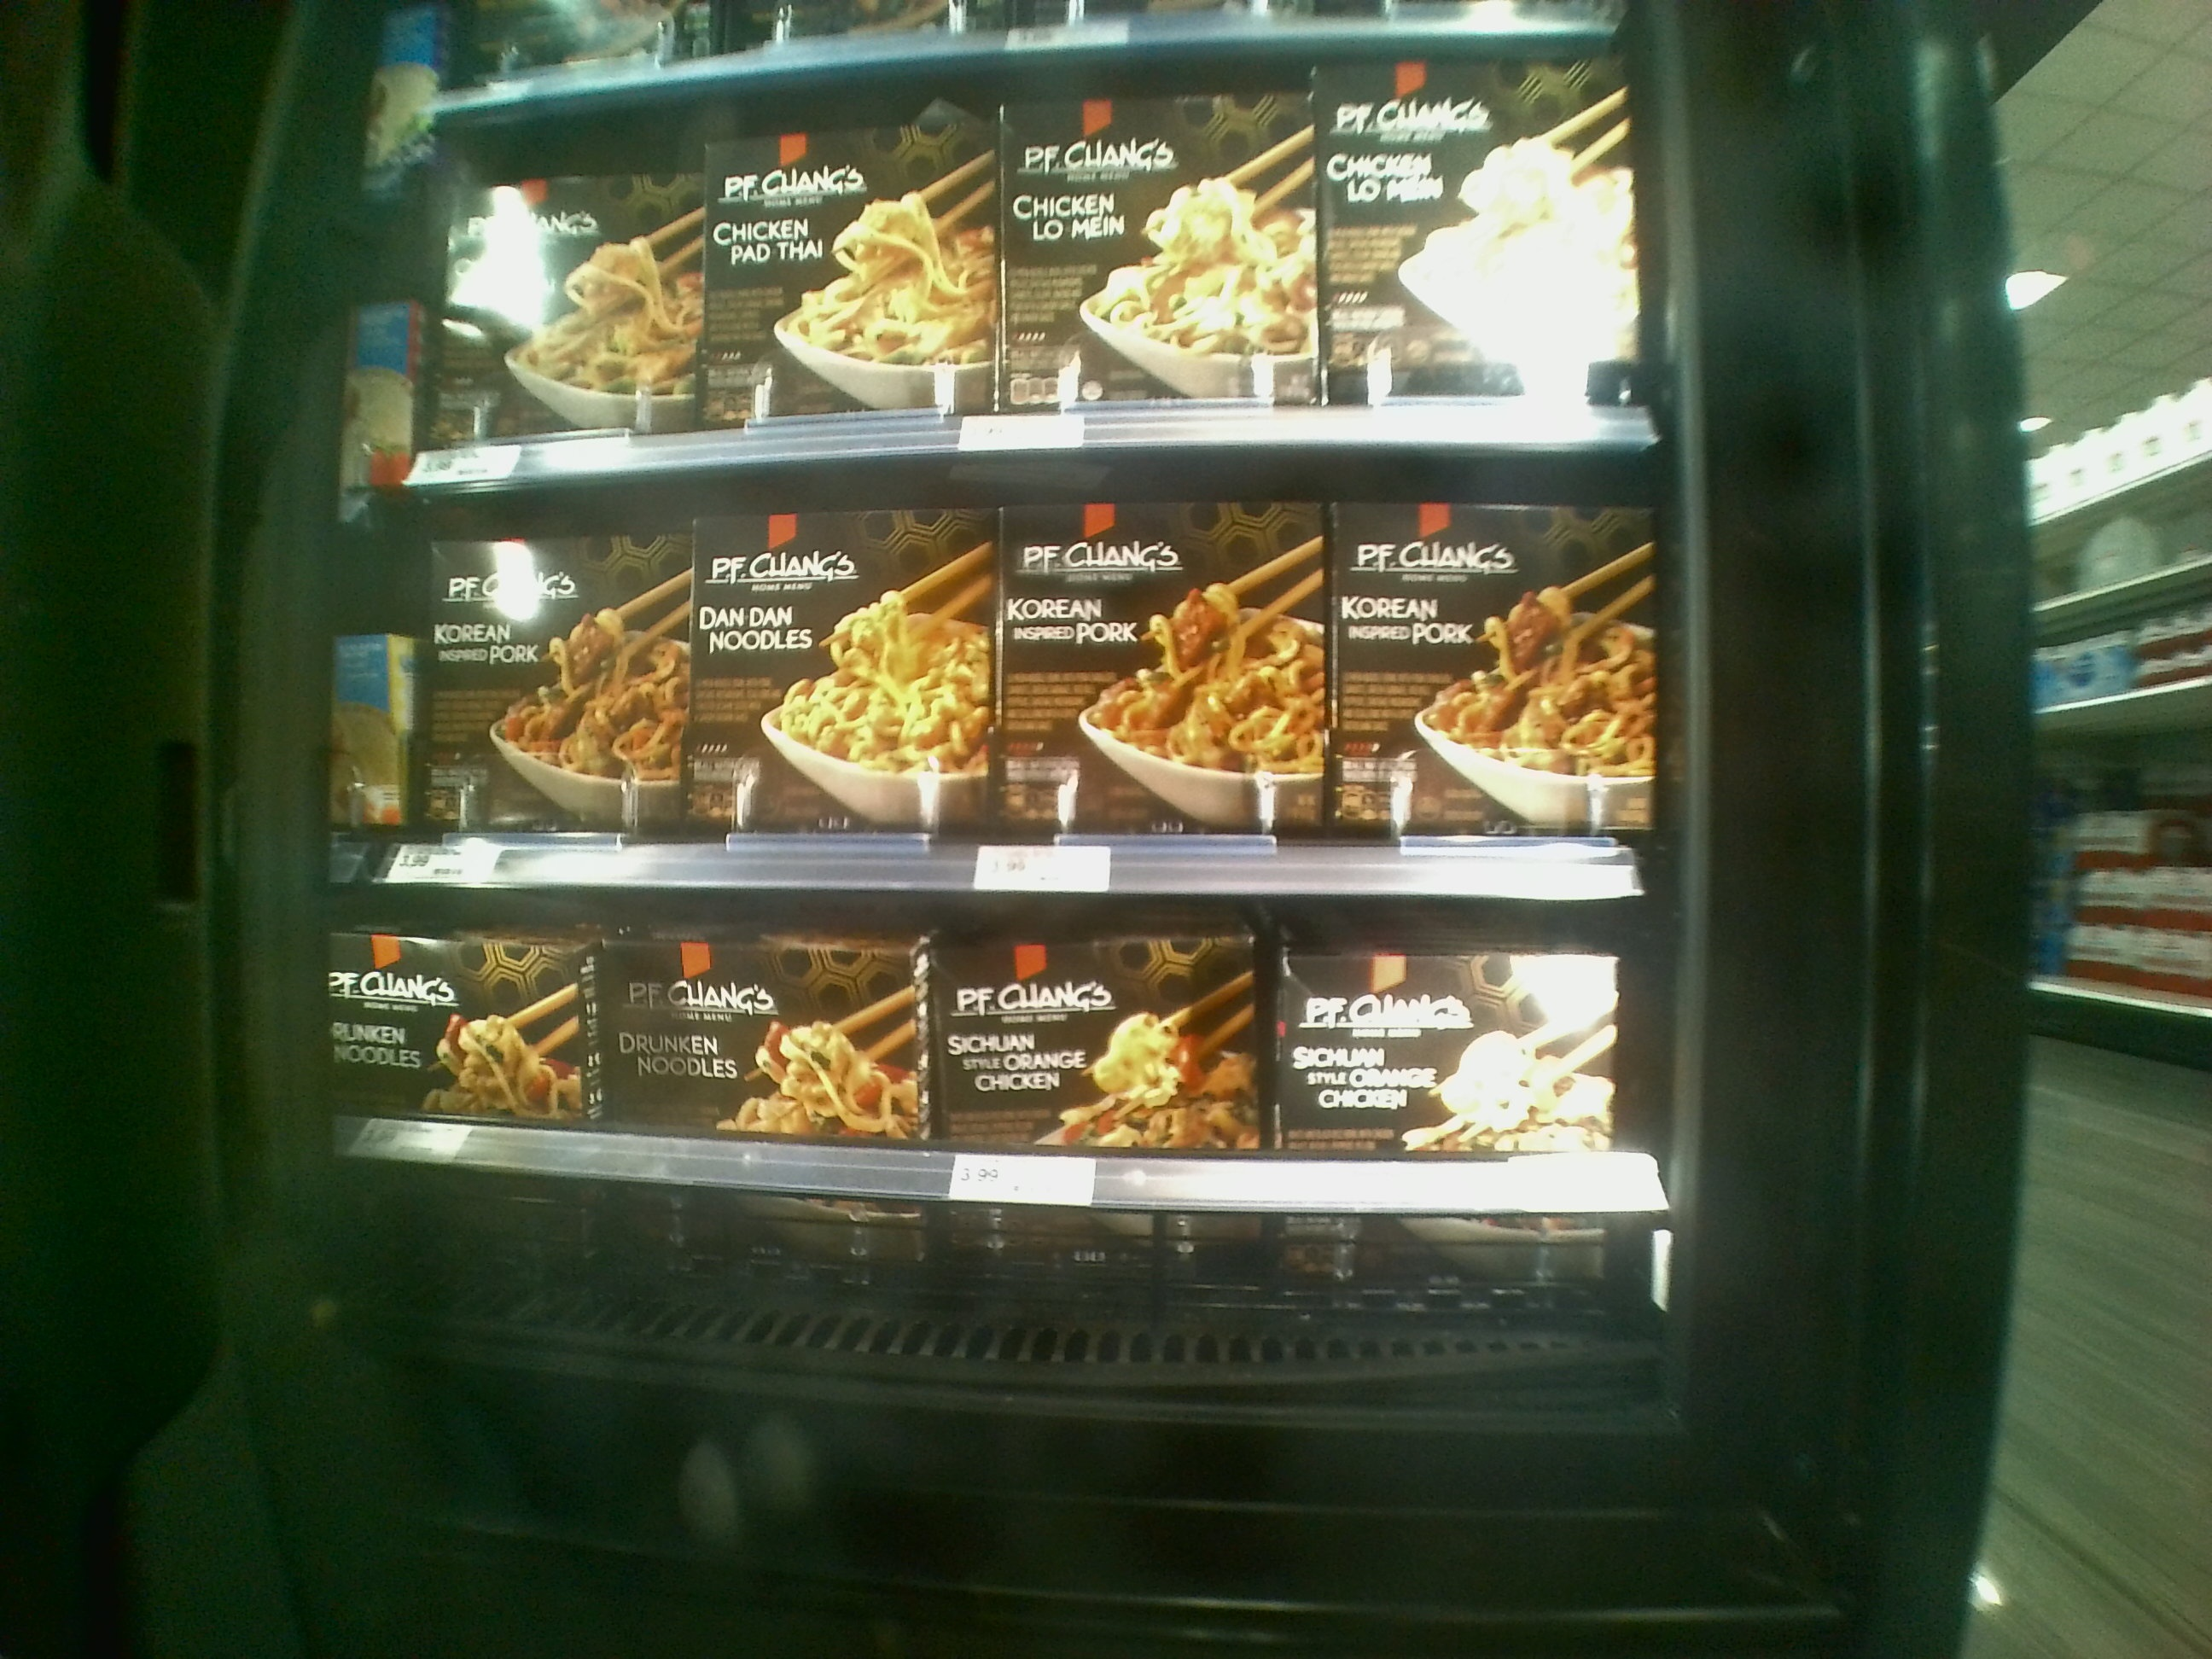shelf: (362, 446, 1665, 897), (327, 878, 1686, 1215)
